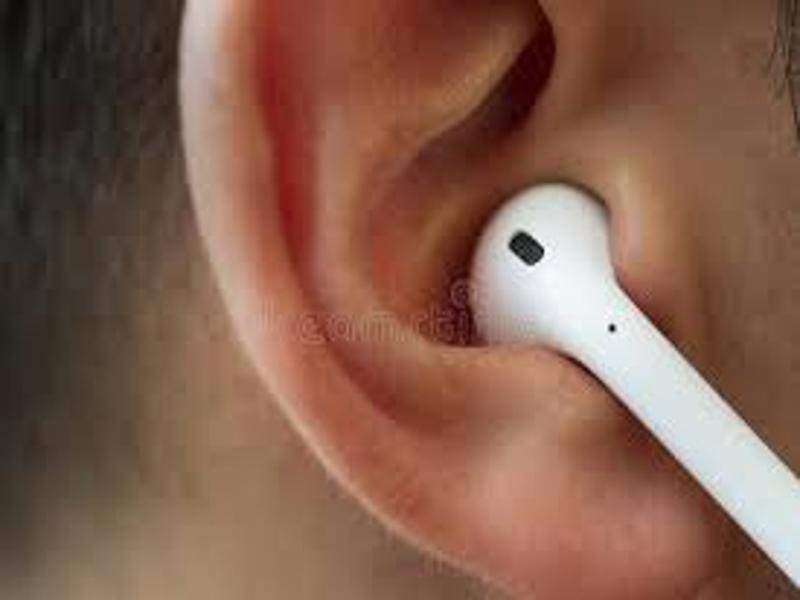headphone: (461, 170, 799, 577)
